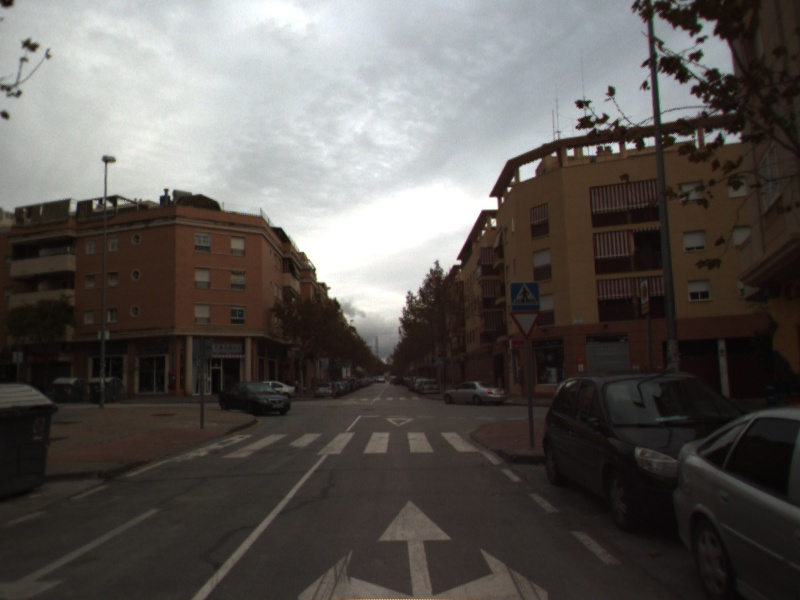STRAIGHT_LEFT_RIGHT: (293, 494, 553, 600)
